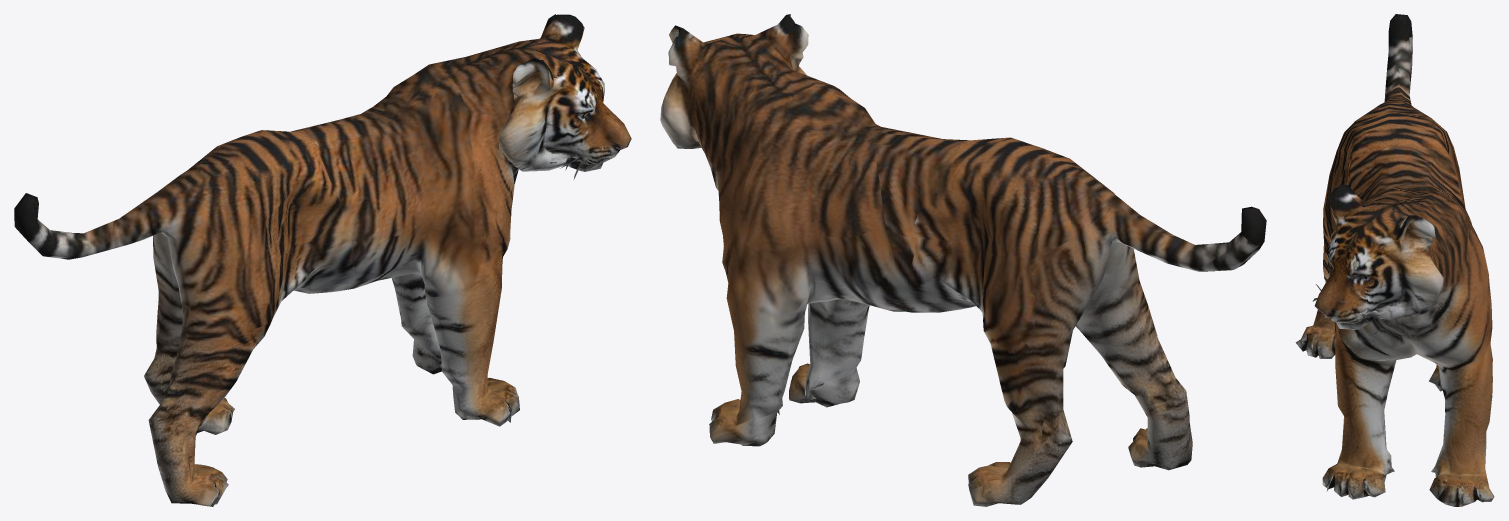
Rendered from SAFFWHISK-lo.glb.
3 renders of one model, left to right at view 1: azimuth 30°, elevation 25°; view 2: azimuth 150°, elevation 25°; view 3: azimuth 270°, elevation 25°, orthographic. The views are drawn at different scales.
Parts seen in each view (by area): view 1: tripo_node_50e70b8f-cf35-4913-a274-e302f67f0ead; view 2: tripo_node_50e70b8f-cf35-4913-a274-e302f67f0ead; view 3: tripo_node_50e70b8f-cf35-4913-a274-e302f67f0ead.
Boxes of the visible parts, box(x1,y1,x2,y2) form: tripo_node_50e70b8f-cf35-4913-a274-e302f67f0ead: box(14, 14, 631, 506); tripo_node_50e70b8f-cf35-4913-a274-e302f67f0ead: box(660, 14, 1266, 506); tripo_node_50e70b8f-cf35-4913-a274-e302f67f0ead: box(1295, 14, 1494, 506).
Bounding box in the file's own units: 1.71 × 0.9991 × 0.5589.
1 material, 1 textured.
